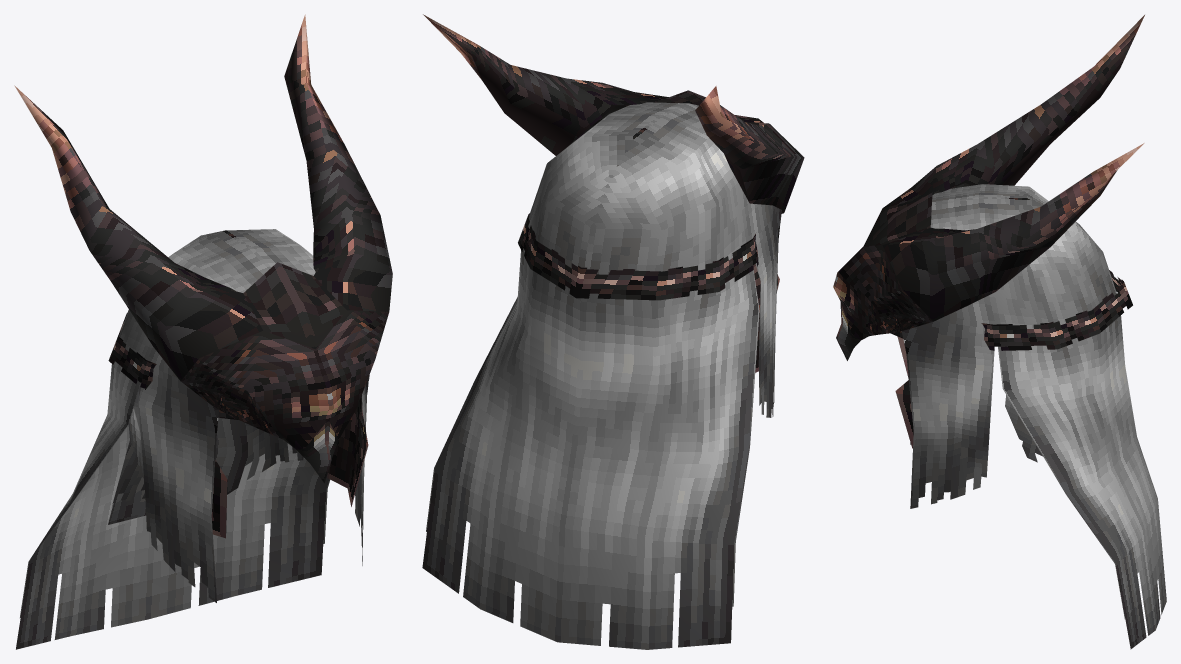
Rendered from f_hair067.glb.
3 views of the same model, side by side, from view 1: azimuth 30°, elevation 25°; view 2: azimuth 150°, elevation 25°; view 3: azimuth 270°, elevation 25° (orthographic). The views are drawn at different scales.
Bounding box in the file's own units: 29.16 × 52.29 × 30.24.
Materials: 1 (1 with a texture image).
